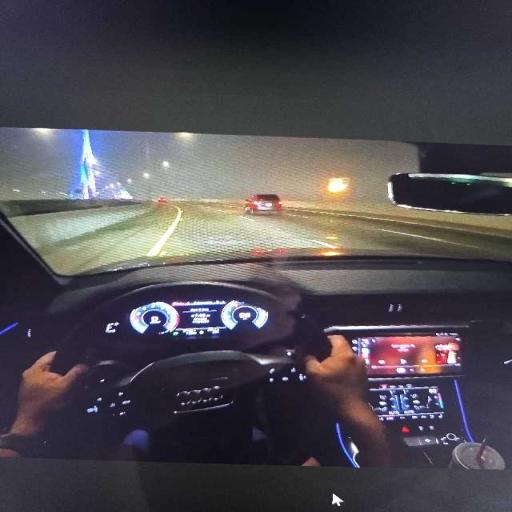car: (0, 142, 511, 488), (244, 194, 283, 214), (156, 196, 167, 202)
lane: (36, 202, 511, 274), (263, 209, 511, 259), (36, 204, 177, 274)
person: (304, 335, 393, 466), (0, 352, 88, 457)
